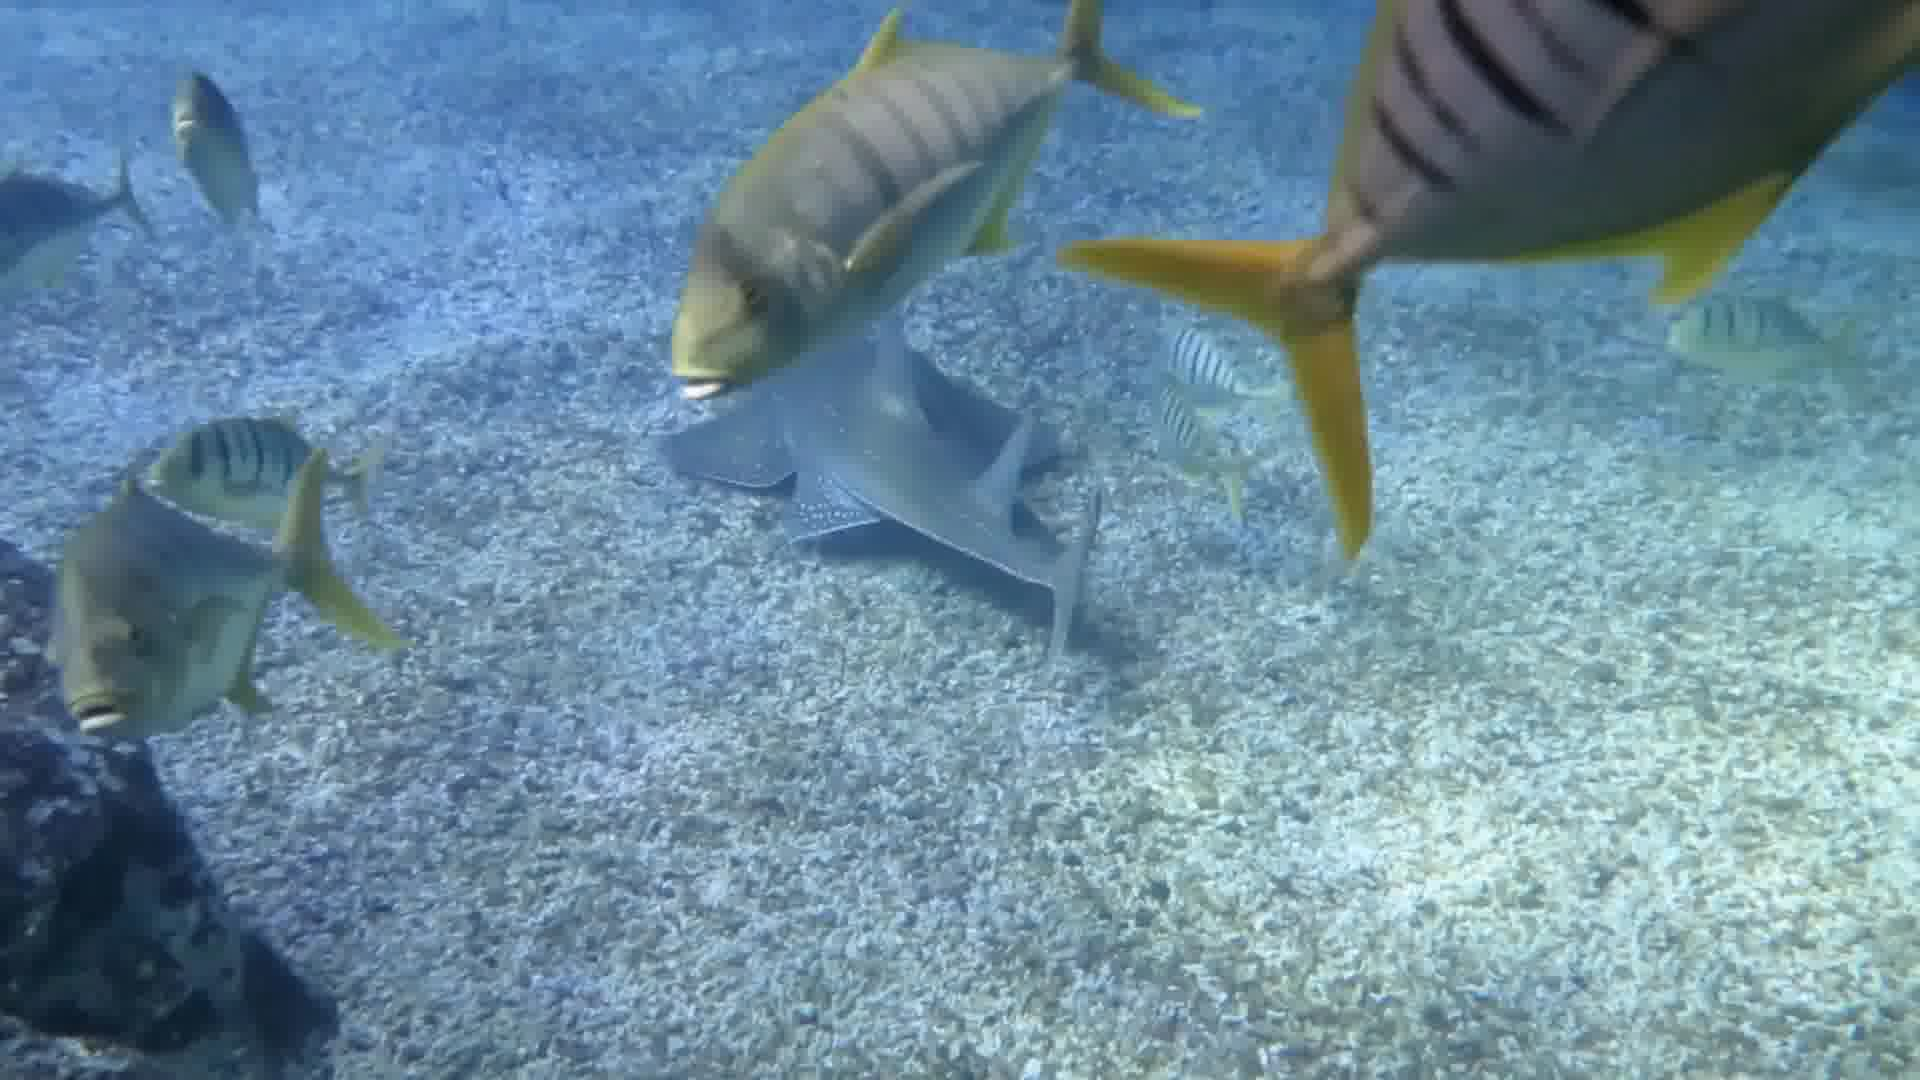Rhychobatus djiddensis: (746, 331, 1076, 611)
